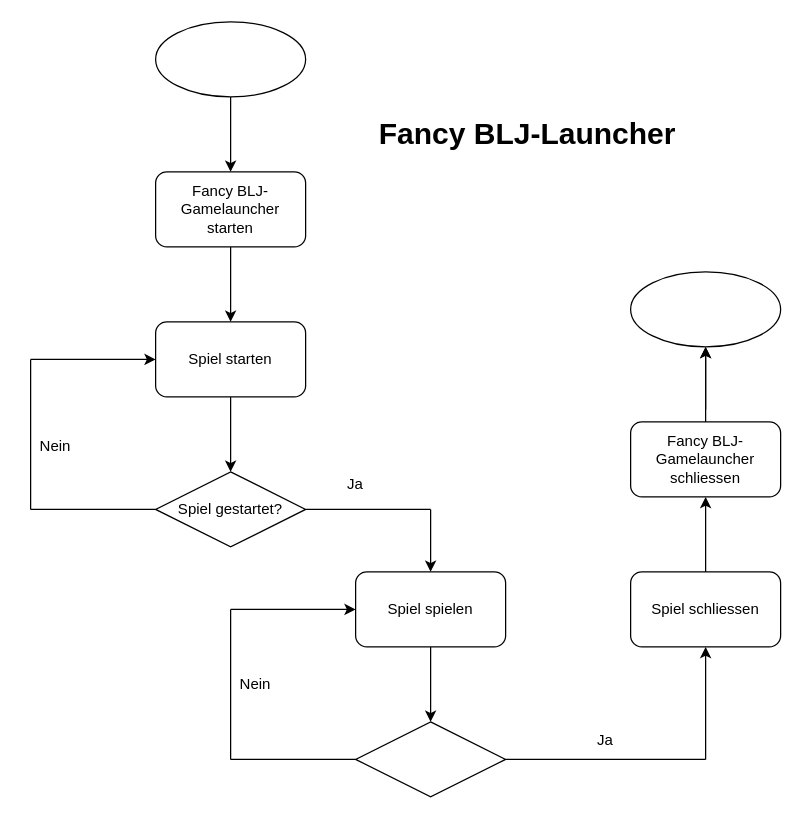
Image size: 803x819. Some labels were removed from this diagram. Each missing label, with the centre of its shape:
"Ende" goes at point 705,309.
"Spiel fertig?" goes at point 430,759.
"Start" goes at point 230,59.
